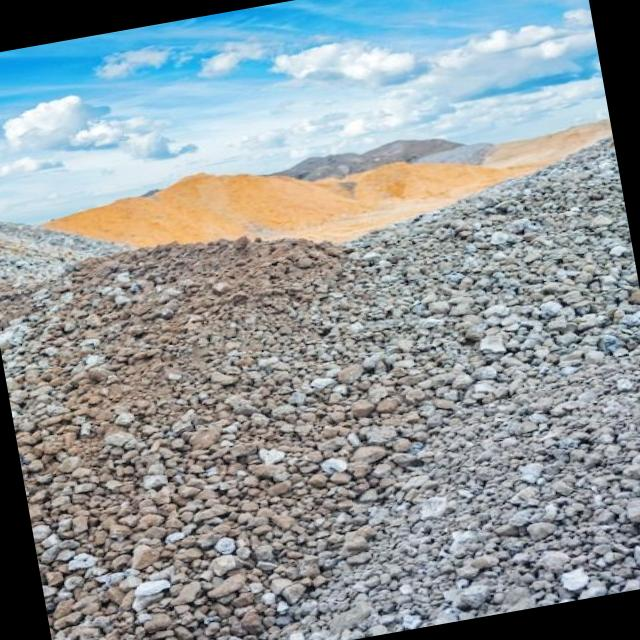red-sand: (45, 157, 550, 246)
rocks: (0, 143, 640, 640)
